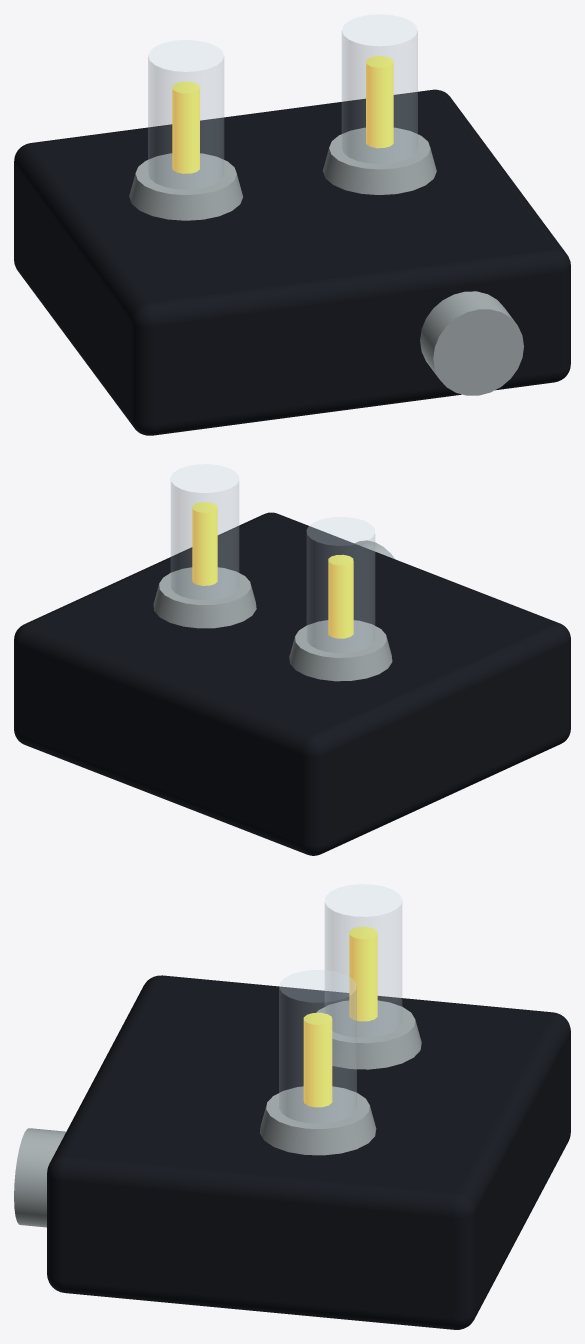
Rendered from atelier-decor-dac-nordic.glb.
The picture shows the model from 3 angles, top to bottom: view 1: azimuth 30°, elevation 25°; view 2: azimuth 150°, elevation 25°; view 3: azimuth 270°, elevation 25°; orthographic projection. The views are drawn at different scales.
Bounding box in the file's own units: 0.1686 × 0.095 × 0.1712.
